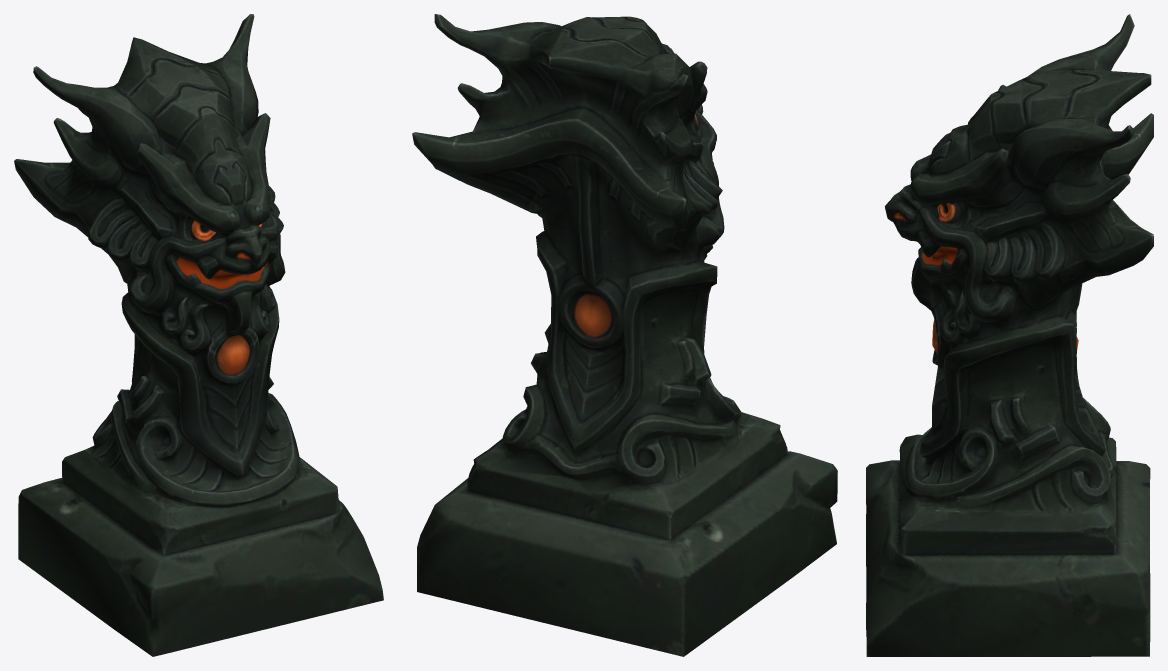
File: TowerT1.glb
The picture shows the model from 3 angles, left to right: view 1: azimuth 30°, elevation 25°; view 2: azimuth 150°, elevation 25°; view 3: azimuth 270°, elevation 25°; orthographic projection. The views are drawn at different scales.
Visible parts, largest first — view 1: models/props_structures/tower_dragon_black.vmdl_c.tower_drag; view 2: models/props_structures/tower_dragon_black.vmdl_c.tower_drag; view 3: models/props_structures/tower_dragon_black.vmdl_c.tower_drag.
Part boxes in pixels (x1,y1,x2,y2): models/props_structures/tower_dragon_black.vmdl_c.tower_drag: (14,14,383,656); models/props_structures/tower_dragon_black.vmdl_c.tower_drag: (412,14,837,656); models/props_structures/tower_dragon_black.vmdl_c.tower_drag: (866,14,1153,656).
Size of the model in its own units: 2.03 by 4.04 by 2.
Materials: 1 (1 with a texture image).
